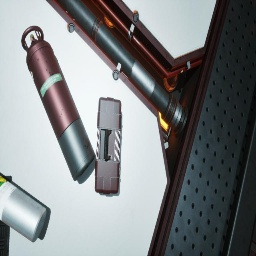0: (0, 175, 46, 242)
FirstAidBox ,: (95, 97, 122, 194)
NitrogenTank ,: (21, 26, 95, 181)
